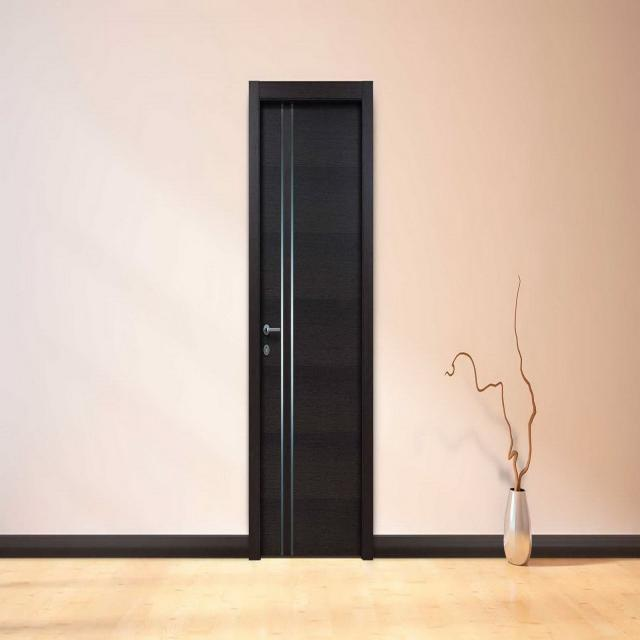close: (252, 91, 371, 562)
